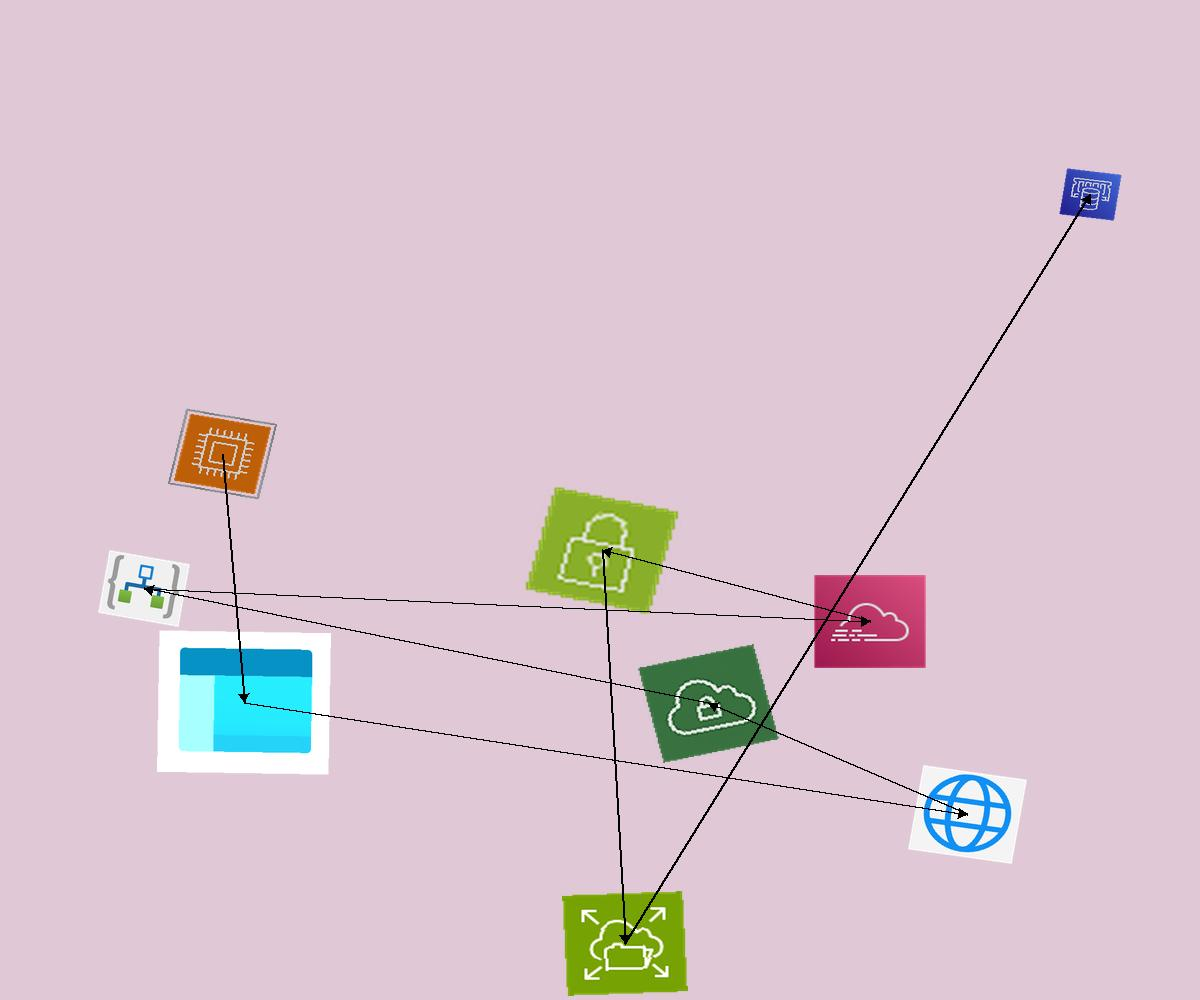AWS-Category_Compute: (167, 408, 278, 500)
AWS-CloudTrail: (813, 574, 927, 669)
AWS-EFS: (562, 891, 688, 996)
AWS-ElastiCache: (1059, 168, 1122, 221)
AWS-Private_vpc: (637, 644, 780, 763)
AWS-Public-subnet: (523, 485, 681, 616)
Azure_http: (908, 765, 1027, 864)
Azure_integration-204-Logic-Apps: (98, 550, 190, 627)
Azure_management-portal: (157, 630, 331, 775)
